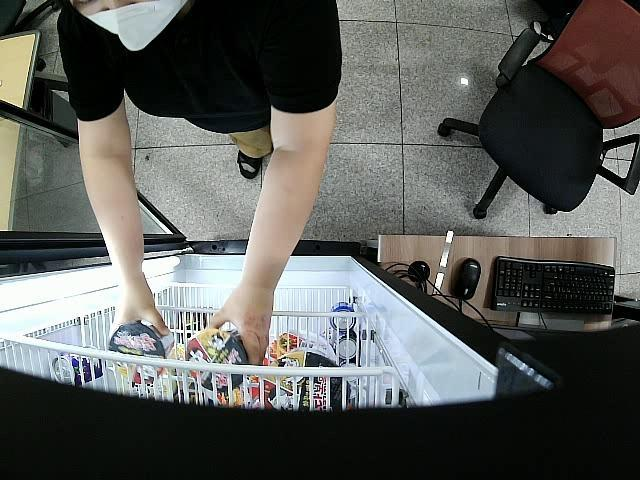08_buldak_S: (186, 327, 249, 390), (110, 322, 172, 381)
